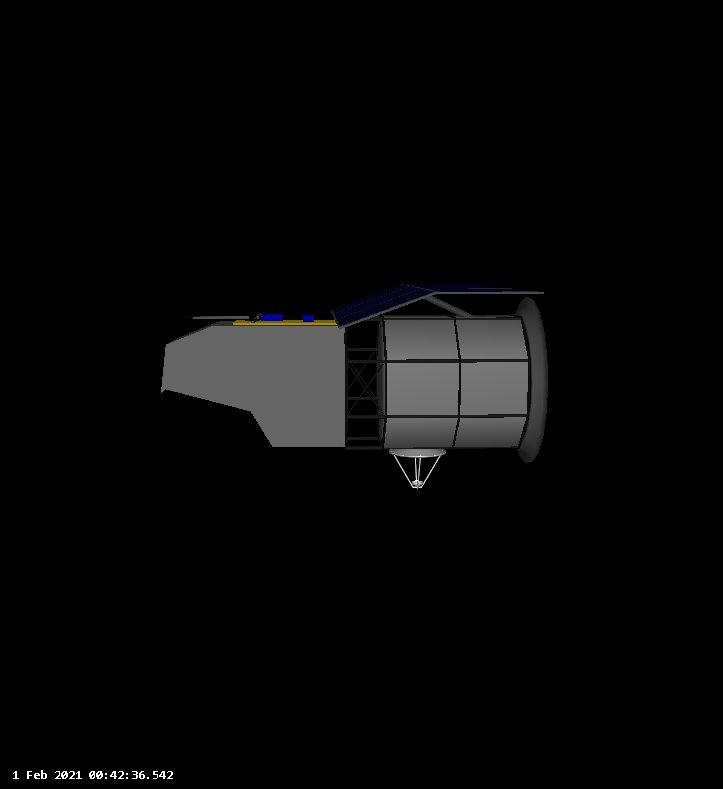antenna: (386, 446, 449, 492)
body: (157, 311, 537, 451)
solar: (328, 283, 548, 330)
